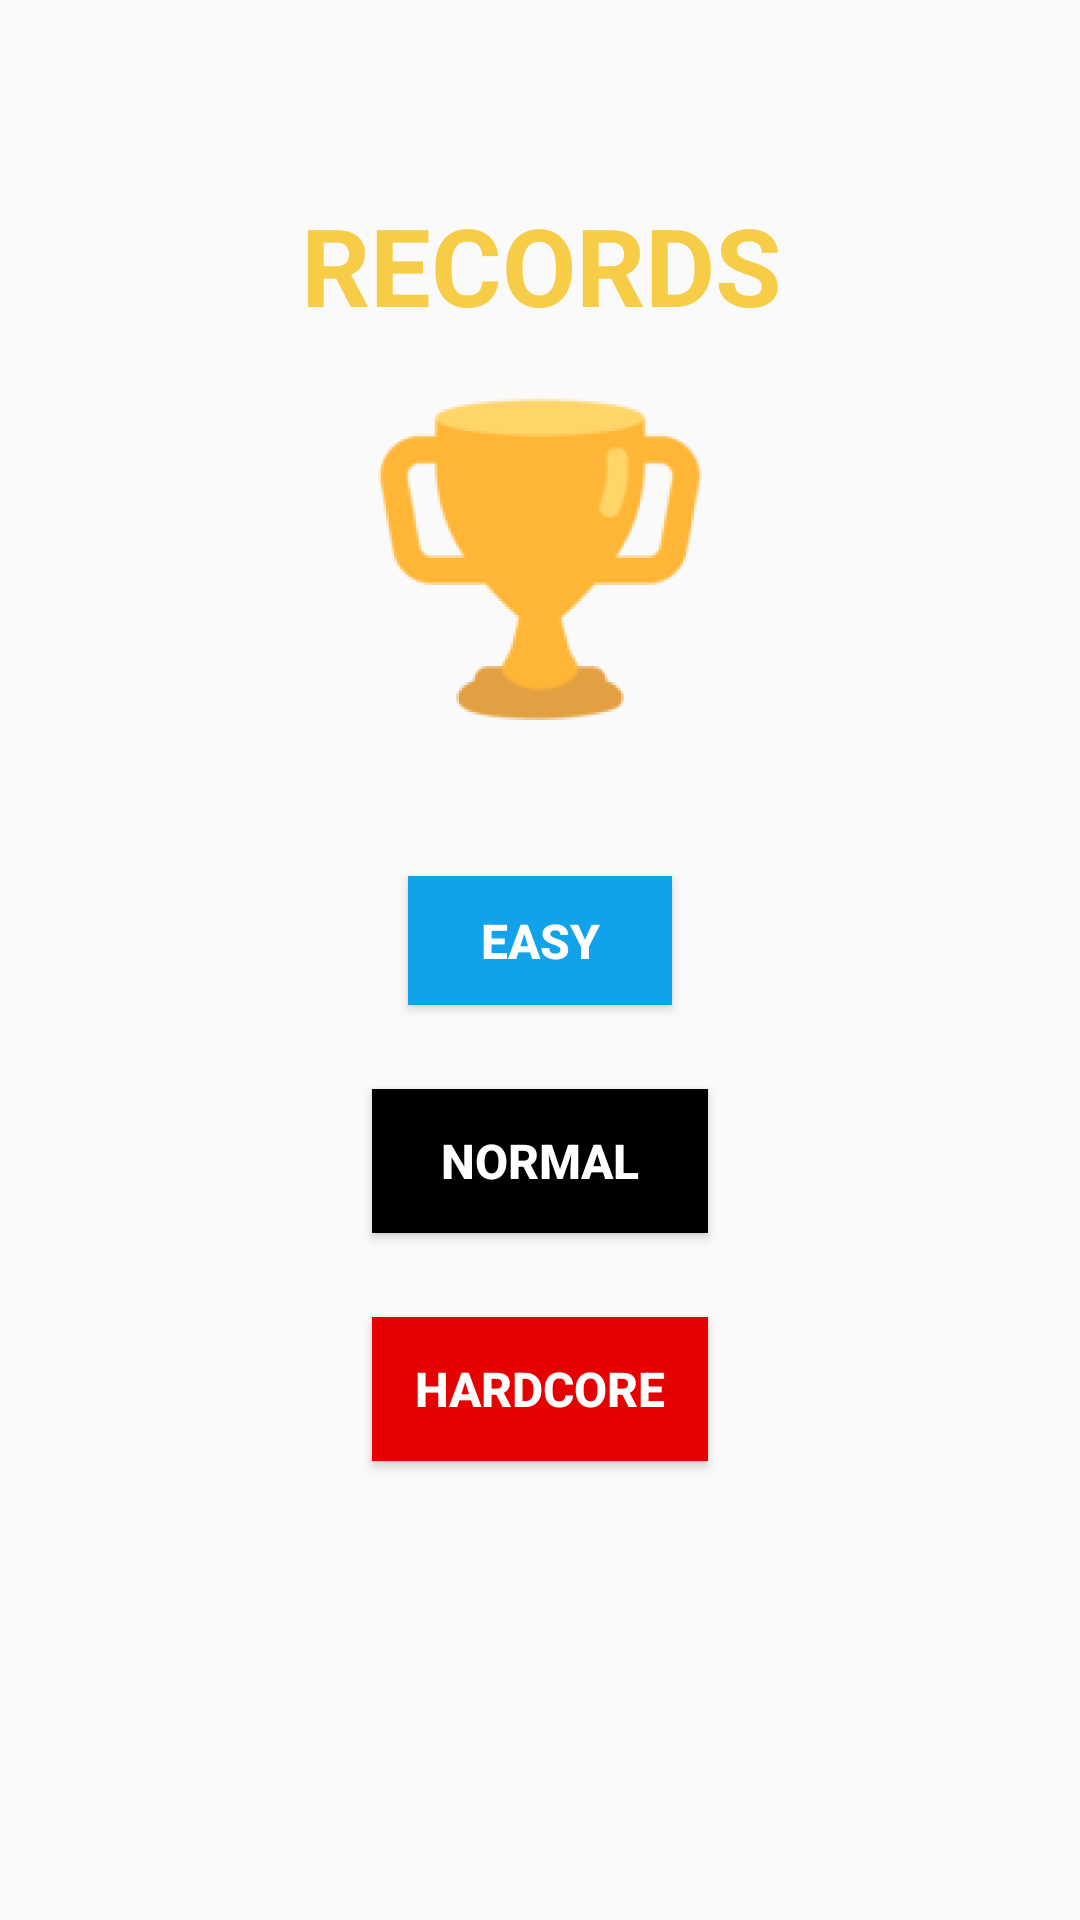

Icon bounding boxes for this 1080w x 1920h phone screenshot, format rect(x1, y1, x2, y2):
trophy: rect(378, 399, 702, 720)
